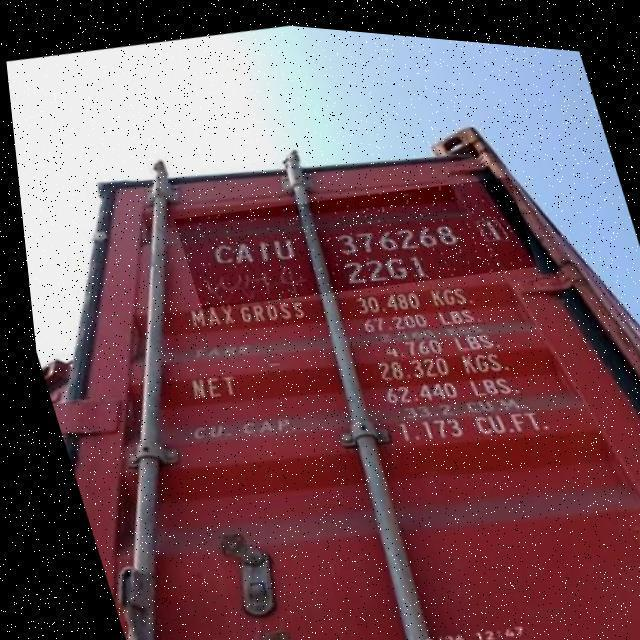container_number_h: (163, 144, 539, 332)
